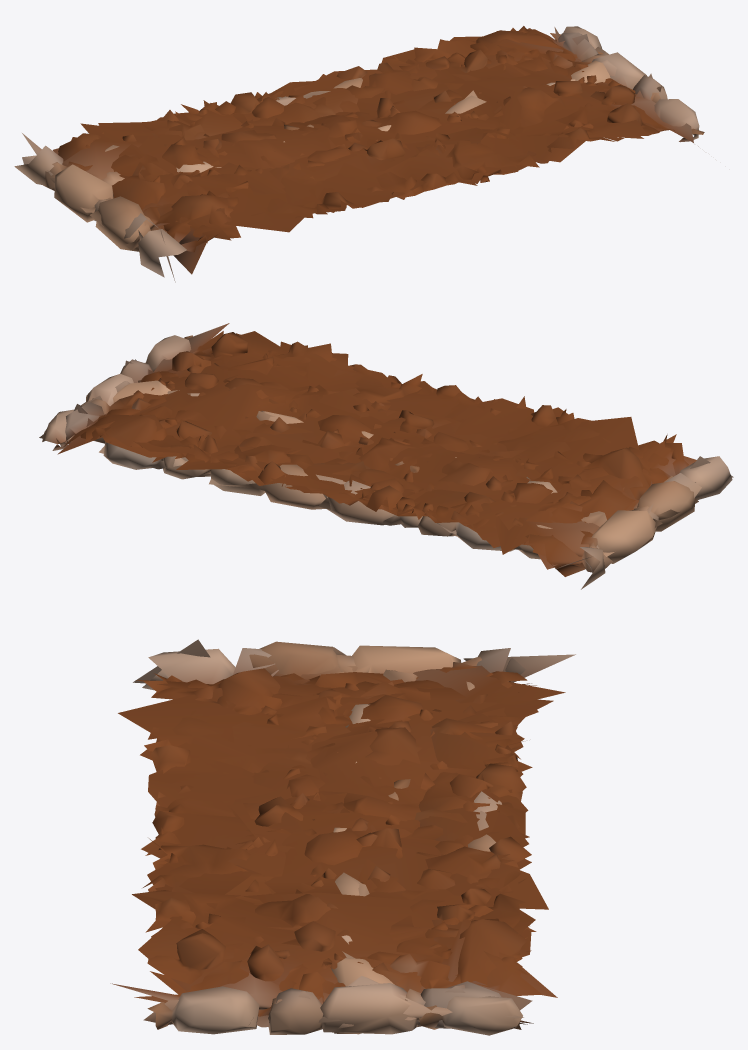
Rendered from soil.glb.
3 renders of one model, top to bottom at view 1: azimuth 30°, elevation 25°; view 2: azimuth 150°, elevation 25°; view 3: azimuth 270°, elevation 25°, orthographic. The views are drawn at different scales.
Parts seen in each view (by area): view 1: middle near length=0.80320 width=1.90285, middle far length=0.80320 width=1.90285, end near length=0.44967 width=1.90285, start near length=0.59232 width=1.90285, end far length=0.44967 width=1.90285, start far length=0.59232 width=1.90285; view 2: middle near length=0.80320 width=1.90285, middle far length=0.80320 width=1.90285, start near length=0.59232 width=1.90285, end near length=0.44967 width=1.90285, end far length=0.44967 width=1.90285, start far length=0.59232 width=1.90285; view 3: middle near length=0.80320 width=1.90285, middle far length=0.80320 width=1.90285, end near length=0.44967 width=1.90285, start near length=0.59232 width=1.90285, end far length=0.44967 width=1.90285, start far length=0.59232 width=1.90285.
Boxes of the visible parts, bbox=[...] form: middle near length=0.80320 width=1.90285: bbox=[14, 26, 704, 277]; middle far length=0.80320 width=1.90285: bbox=[22, 31, 698, 282]; end near length=0.44967 width=1.90285: bbox=[22, 29, 610, 190]; start near length=0.59232 width=1.90285: bbox=[94, 54, 667, 238]; end far length=0.44967 width=1.90285: bbox=[62, 27, 589, 179]; start far length=0.59232 width=1.90285: bbox=[99, 64, 652, 240]; middle near length=0.80320 width=1.90285: bbox=[42, 331, 732, 589]; middle far length=0.80320 width=1.90285: bbox=[39, 323, 733, 569]; start near length=0.59232 width=1.90285: bbox=[91, 351, 701, 559]; end near length=0.44967 width=1.90285: bbox=[56, 380, 612, 576]; end far length=0.44967 width=1.90285: bbox=[57, 390, 599, 567]; start far length=0.59232 width=1.90285: bbox=[99, 360, 695, 549]; middle near length=0.80320 width=1.90285: bbox=[134, 641, 536, 1035]; middle far length=0.80320 width=1.90285: bbox=[110, 639, 575, 1024]; end near length=0.44967 width=1.90285: bbox=[331, 656, 553, 1029]; start near length=0.59232 width=1.90285: bbox=[225, 648, 501, 1034]; end far length=0.44967 width=1.90285: bbox=[342, 665, 565, 1024]; start far length=0.59232 width=1.90285: bbox=[228, 647, 488, 1027].
Size of the model in its own units: 1.91 by 0.1477 by 1.59.
